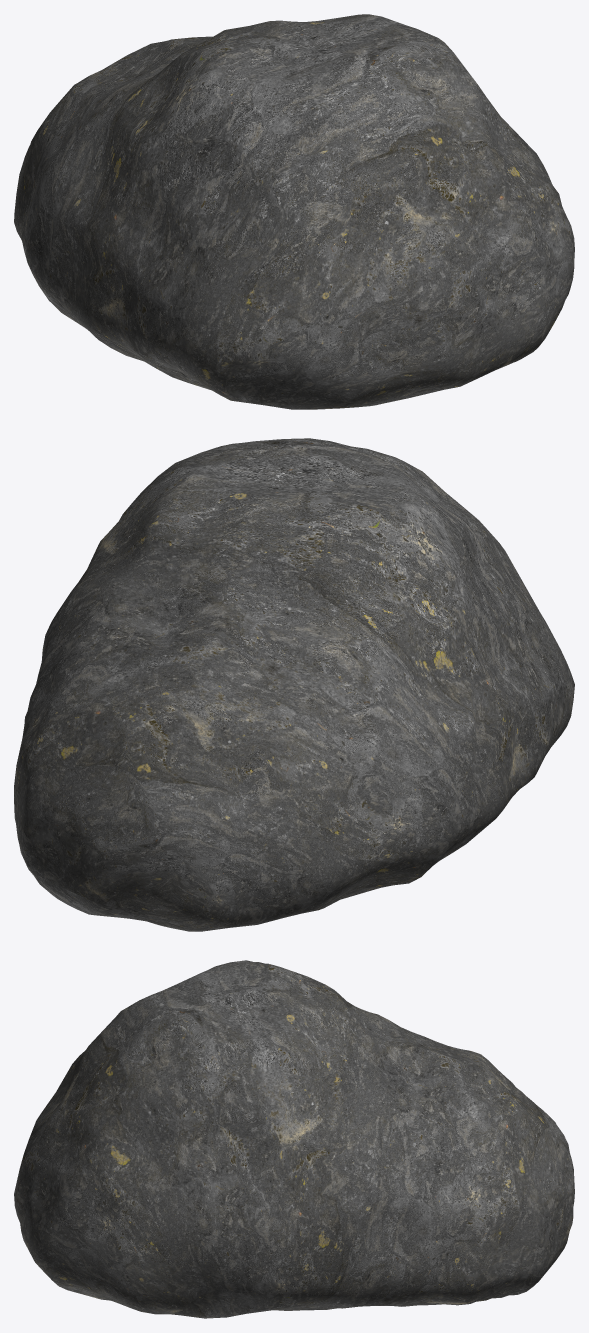
File: Rock3.fbx
3 views of the same model, one above another, from view 1: azimuth 30°, elevation 25°; view 2: azimuth 150°, elevation 25°; view 3: azimuth 270°, elevation 25° (orthographic). The views are drawn at different scales.
Parts seen in each view (by area): view 1: Rock 3.003; view 2: Rock 3.003; view 3: Rock 3.003.
Part boxes in pixels (x1=…): Rock 3.003: x1=14, y1=14, x2=574, y2=409; Rock 3.003: x1=14, y1=438, x2=574, y2=931; Rock 3.003: x1=14, y1=960, x2=574, y2=1318.
Size of the model in its own units: 798 by 598 by 1053.
